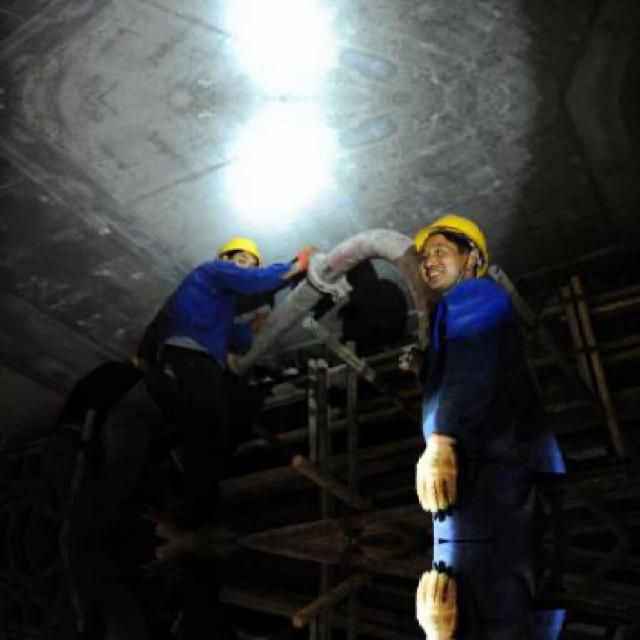helmet: (410, 210, 492, 293), (215, 234, 268, 284)
